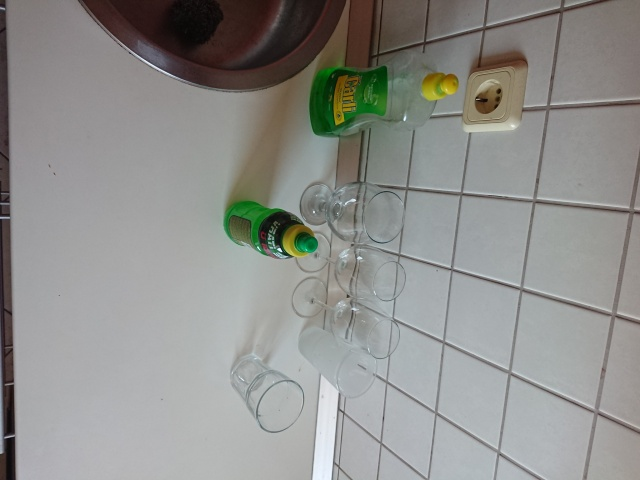Vindi Iso Sport Lemon-Grapefruit 500mL: (221, 198, 320, 262)
